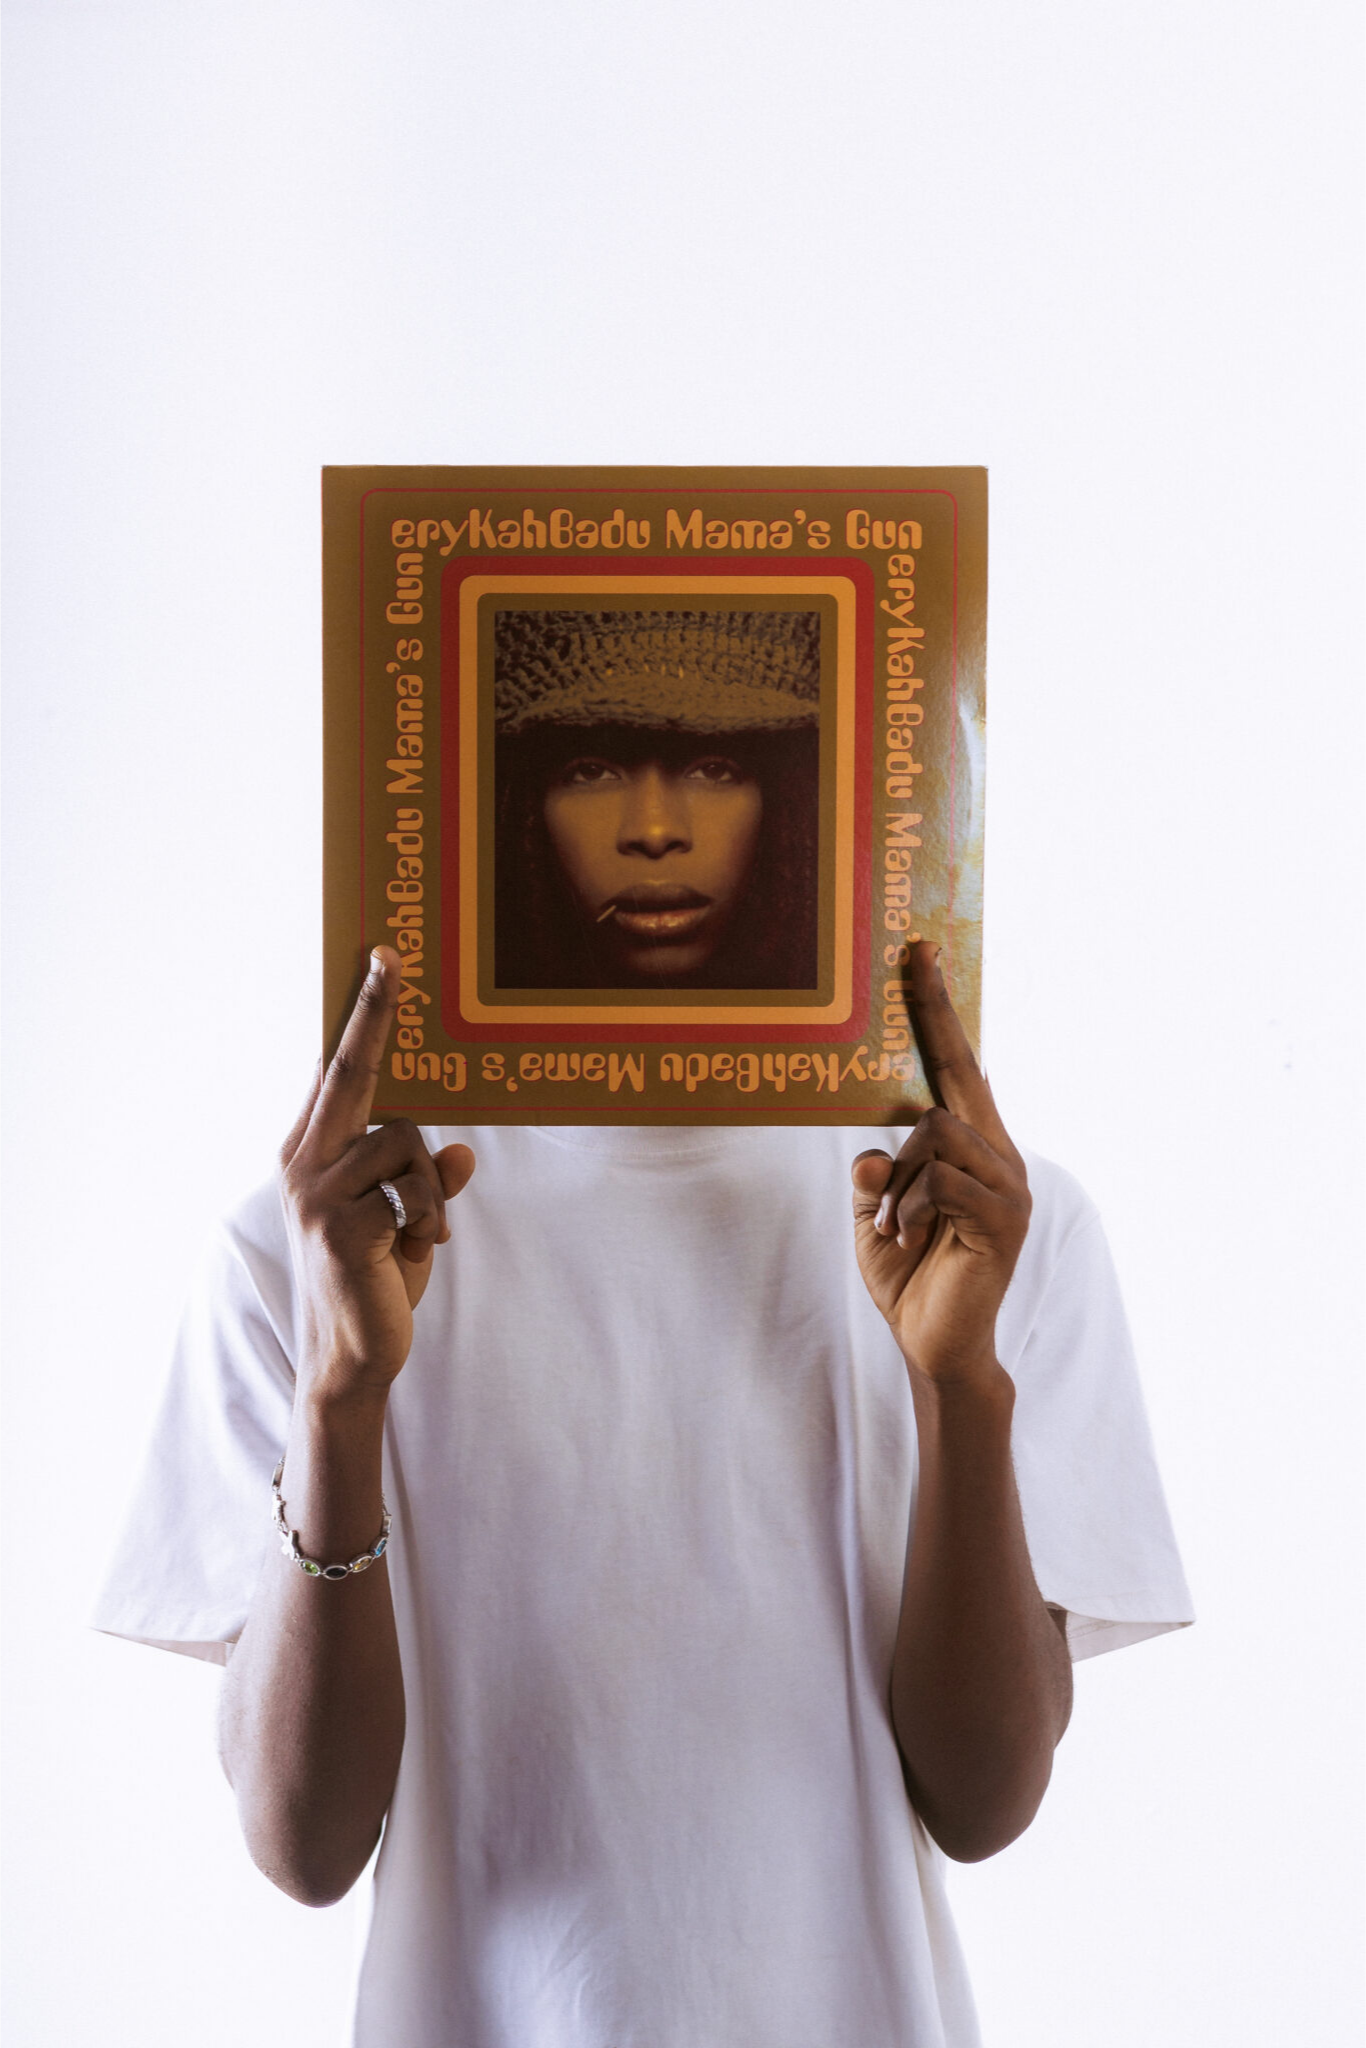erykah badu_mama's gun: (305, 453, 989, 1135)
